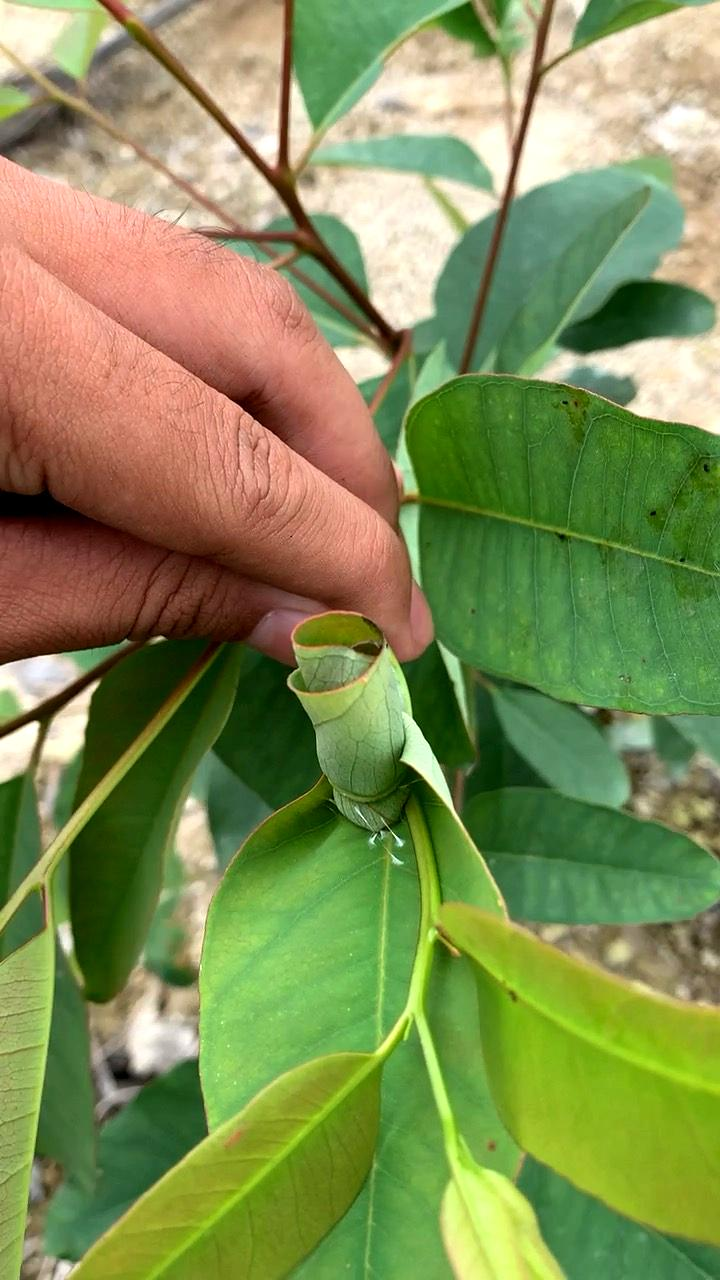Leaf Roller - Leaf: (276, 600, 429, 846)
